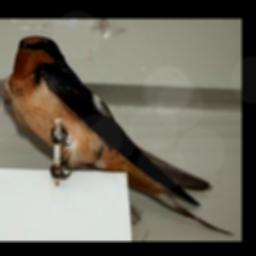Swallow: (9, 34, 236, 231)
